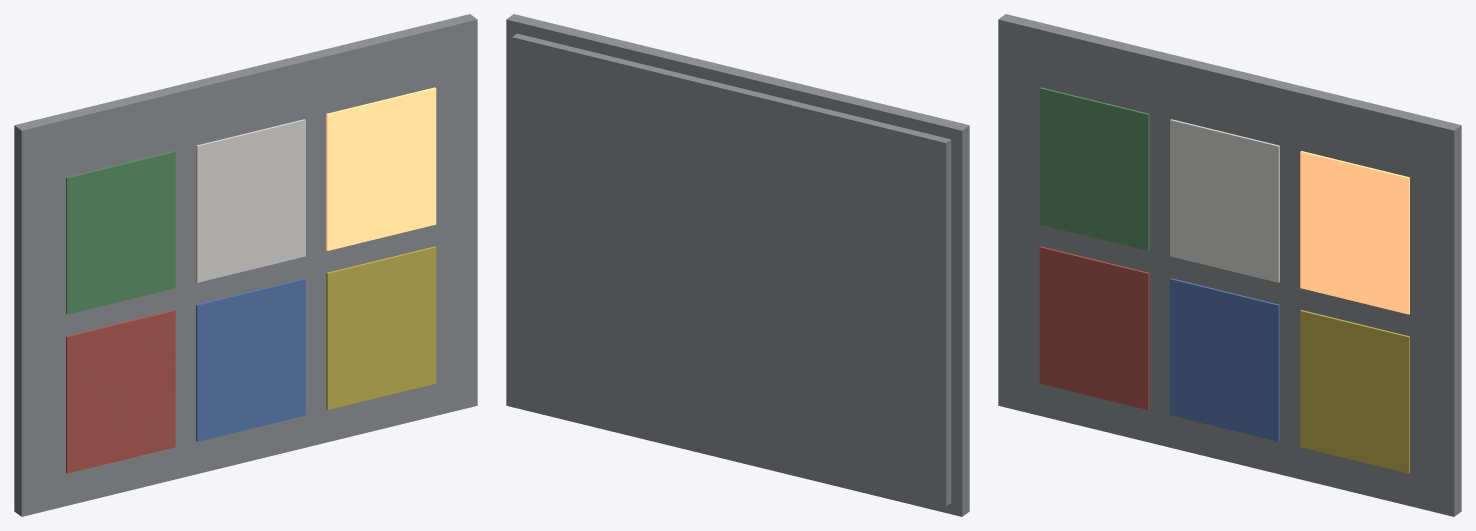
Rendered from prop_poster_board_a.glb.
3 renders of one model, left to right at view 1: azimuth 30°, elevation 25°; view 2: azimuth 150°, elevation 25°; view 3: azimuth 330°, elevation 25°, orthographic.
Parts seen in each view (by area): view 1: poster_board_a; view 2: poster_board_a; view 3: poster_board_a.
Boxes of the visible parts, x1,y1,x2,y2 form: poster_board_a: (14,14,477,516); poster_board_a: (506,14,969,516); poster_board_a: (998,14,1461,516).
Size of the model in its own units: 2.1 by 1.7 by 0.115.
